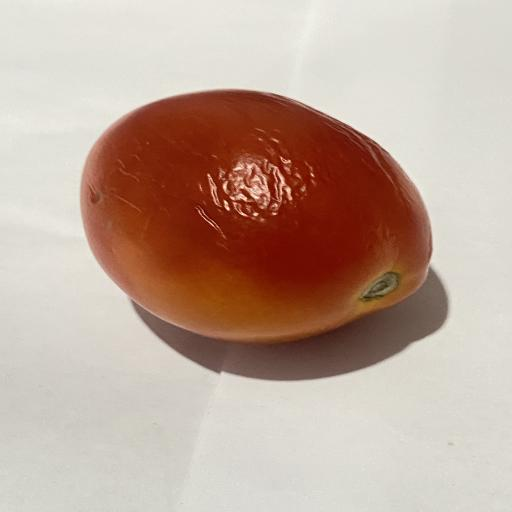spoiled: (81, 90, 432, 343), (210, 154, 305, 220)
